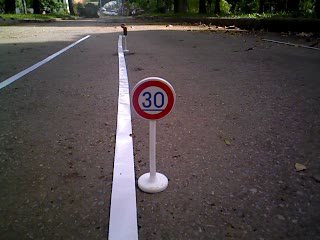limit 30: (130, 76, 176, 122)
